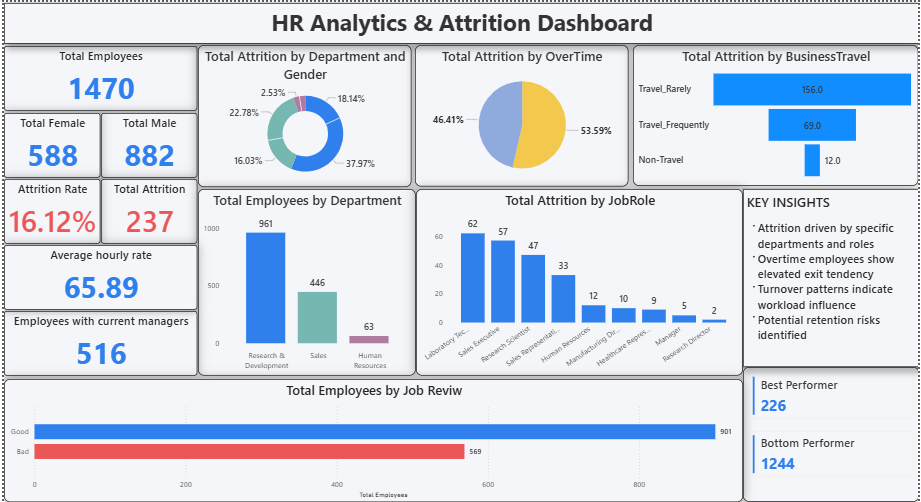

Layout of this report page (visuals, bound fields, positions):
{"tool":"powerbi","page":{"name":"Summery","canvas":[1500,820],"ordinal":0},"visuals":[{"type":"card","title":"Total Employees","fields":{"Values":["Count(HR-Employee-Attrition.EmployeeNumber)"]},"box":[0,71.5,317,106],"z":0},{"type":"card","title":"Total Male","fields":{"Values":["*My Measures*.Total Male"]},"box":[159,181.4,158,106],"z":1000},{"type":"card","title":"Total Female","fields":{"Values":["*My Measures*.Total female"]},"box":[0,181.4,158,106],"z":2000},{"type":"card","title":"Total Attrition","fields":{"Values":["*My Measures*.Total Attrition"]},"box":[159.1,290.8,158,106],"z":3000},{"type":"card","title":"Attrition Rate","fields":{"Values":["*My Measures*.Attrition Rate"]},"box":[0,290.8,158,106],"z":4000},{"type":"donutChart","fields":{"Y":["*My Measures*.Total Attrition"],"Category":["HR-Employee-Attrition.Department"],"Series":["HR-Employee-Attrition.Gender"]},"box":[317.4,71,350,232.9],"z":5000},{"type":"columnChart","fields":{"Y":["*My Measures*.Total Employees"],"Category":["HR-Employee-Attrition.Department"]},"box":[318.2,307,357,306],"z":6000},{"type":"pieChart","fields":{"Y":["*My Measures*.Total Attrition"],"Category":["HR-Employee-Attrition.OverTime"]},"box":[673.4,71,350,232],"z":7000},{"type":"funnel","fields":{"Category":["HR-Employee-Attrition.BusinessTravel"],"Y":["*My Measures*.Total Attrition"]},"box":[1031.4,71,468,231.2],"z":8000},{"type":"multiRowCard","fields":{"Values":["HR-Employee-Attrition.Best/Bottom Performers","*My Measures*.Total Employees"]},"box":[1212,598.6,288.6,221.4],"z":9000},{"type":"textbox","box":[0,1.6,1500.6,67],"z":10000},{"type":"card","title":"Employees with current managers","fields":{"Values":["CountNonNull(HR-Employee-Attrition.Emp with current managers)"]},"box":[0,506.1,317,106],"z":11000},{"type":"card","title":"Average hourly rate","fields":{"Values":["Avg(HR-Employee-Attrition.HourlyRate)"]},"box":[0,397.9,317,106],"z":12000},{"type":"columnChart","fields":{"Category":["HR-Employee-Attrition.JobRole"],"Y":["*My Measures*.Total Attrition"]},"box":[675.7,307,536.3,306],"z":13000},{"type":"barChart","fields":{"Category":["HR-Employee-Attrition.Job Reviw"],"Y":["*My Measures*.Total Employees"]},"box":[0,618.3,1212,201.7],"z":14000},{"type":"textbox","box":[1212,306.7,288.6,291.9],"z":15000}]}

Visuals, with their boxes in screenshot pixels (x1, y1, x2, y2), scaled from the page's 1500x820 canvas onto the 921x502 screenshot:
"Total Employees" card: l=0, t=44, r=195, b=109
"Total Male" card: l=98, t=111, r=195, b=176
"Total Female" card: l=0, t=111, r=97, b=176
"Total Attrition" card: l=98, t=178, r=195, b=243
"Attrition Rate" card: l=0, t=178, r=97, b=243
donutChart - *My Measures*.Total Attrition x HR-Employee-Attrition.Department: l=195, t=43, r=410, b=186
columnChart - *My Measures*.Total Employees x HR-Employee-Attrition.Department: l=195, t=188, r=415, b=375
pieChart - *My Measures*.Total Attrition x HR-Employee-Attrition.OverTime: l=413, t=43, r=628, b=185
funnel - HR-Employee-Attrition.BusinessTravel x *My Measures*.Total Attrition: l=633, t=43, r=920, b=185
multiRowCard - HR-Employee-Attrition.Best/Bottom Performers x *My Measures*.Total Employees: l=744, t=366, r=920, b=501
textbox: l=0, t=1, r=920, b=42
"Employees with current managers" card: l=0, t=310, r=195, b=375
"Average hourly rate" card: l=0, t=244, r=195, b=308
columnChart - HR-Employee-Attrition.JobRole x *My Measures*.Total Attrition: l=415, t=188, r=744, b=375
barChart - HR-Employee-Attrition.Job Reviw x *My Measures*.Total Employees: l=0, t=379, r=744, b=501
textbox: l=744, t=188, r=920, b=366
